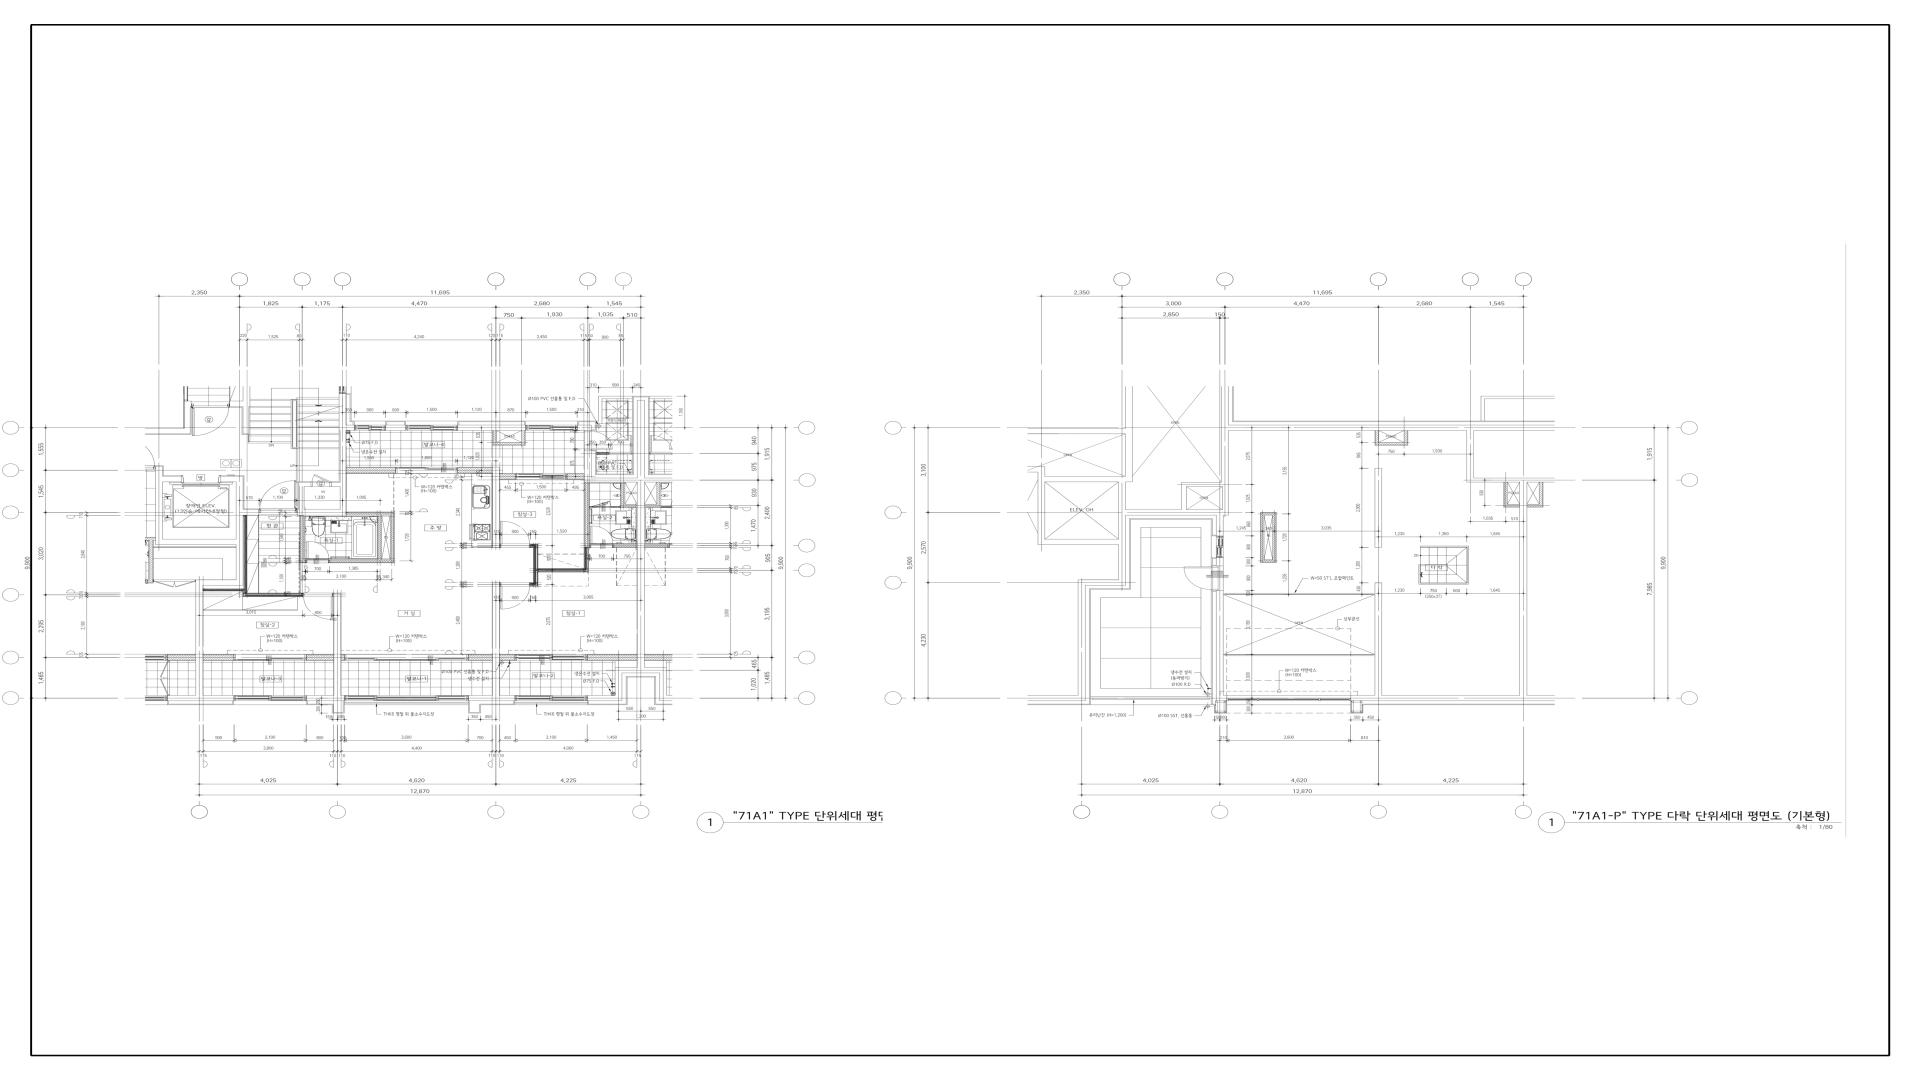door: (191, 401, 229, 435), (258, 480, 297, 513), (1184, 566, 1224, 591), (302, 593, 334, 622), (500, 583, 530, 609), (500, 521, 530, 547), (584, 430, 613, 450), (306, 541, 330, 563), (589, 526, 613, 547), (608, 434, 632, 455), (649, 435, 673, 455), (153, 580, 195, 588), (311, 473, 330, 487), (591, 500, 611, 508)
wall: (1382, 508, 1555, 700), (1228, 425, 1555, 483), (1085, 514, 1217, 589), (1027, 386, 1133, 476), (1027, 467, 1133, 545), (1027, 589, 1089, 704), (1182, 386, 1229, 510), (1038, 481, 1118, 545), (1350, 583, 1382, 702), (330, 516, 390, 563), (588, 667, 673, 700), (588, 673, 673, 705), (641, 396, 674, 480), (1350, 700, 1555, 713), (530, 543, 588, 587), (345, 512, 394, 563), (1474, 477, 1555, 508), (162, 516, 244, 545), (1182, 487, 1229, 535), (156, 465, 181, 545), (1212, 591, 1226, 713), (340, 393, 355, 516), (584, 450, 637, 483), (203, 545, 244, 585), (145, 401, 191, 435), (220, 475, 258, 516), (637, 508, 645, 667), (330, 393, 343, 487), (229, 386, 251, 435), (596, 396, 633, 423), (195, 580, 203, 695), (492, 583, 500, 695), (334, 593, 342, 695), (1261, 513, 1276, 562), (633, 396, 641, 480), (492, 467, 500, 547), (468, 700, 516, 713), (1261, 516, 1273, 562), (492, 430, 526, 446), (1375, 468, 1382, 547), (306, 700, 344, 713), (145, 538, 156, 583), (167, 695, 233, 702), (584, 483, 591, 547), (1375, 431, 1407, 444), (298, 481, 311, 510), (621, 483, 637, 506), (645, 483, 661, 506), (1527, 483, 1543, 506), (1125, 509, 1182, 516), (1505, 483, 1519, 508), (458, 425, 526, 430), (587, 654, 637, 661), (345, 467, 396, 473), (291, 400, 298, 448), (299, 516, 306, 563), (345, 393, 355, 425), (297, 509, 340, 516), (458, 421, 526, 425), (167, 702, 233, 705), (306, 695, 344, 702), (468, 695, 516, 700), (458, 467, 492, 473), (637, 480, 645, 508), (203, 654, 235, 661), (578, 421, 596, 431), (306, 654, 334, 661), (645, 654, 673, 661), (167, 654, 195, 661), (468, 654, 492, 661), (385, 425, 406, 431), (567, 473, 584, 480), (500, 654, 516, 661), (500, 473, 516, 480), (645, 543, 670, 547), (578, 425, 592, 431), (613, 543, 637, 547), (385, 421, 406, 425), (645, 480, 674, 483), (1216, 558, 1224, 566), (596, 452, 608, 455), (342, 654, 344, 661), (611, 506, 621, 508), (589, 506, 591, 508)
window: (344, 654, 468, 661), (344, 695, 468, 700), (1089, 696, 1212, 700), (233, 695, 306, 702), (235, 654, 306, 661), (516, 654, 587, 661), (396, 467, 458, 473), (516, 695, 588, 700), (526, 425, 578, 431), (516, 473, 567, 480), (1226, 698, 1350, 700), (406, 425, 458, 430), (355, 425, 385, 431), (1216, 535, 1224, 558)
